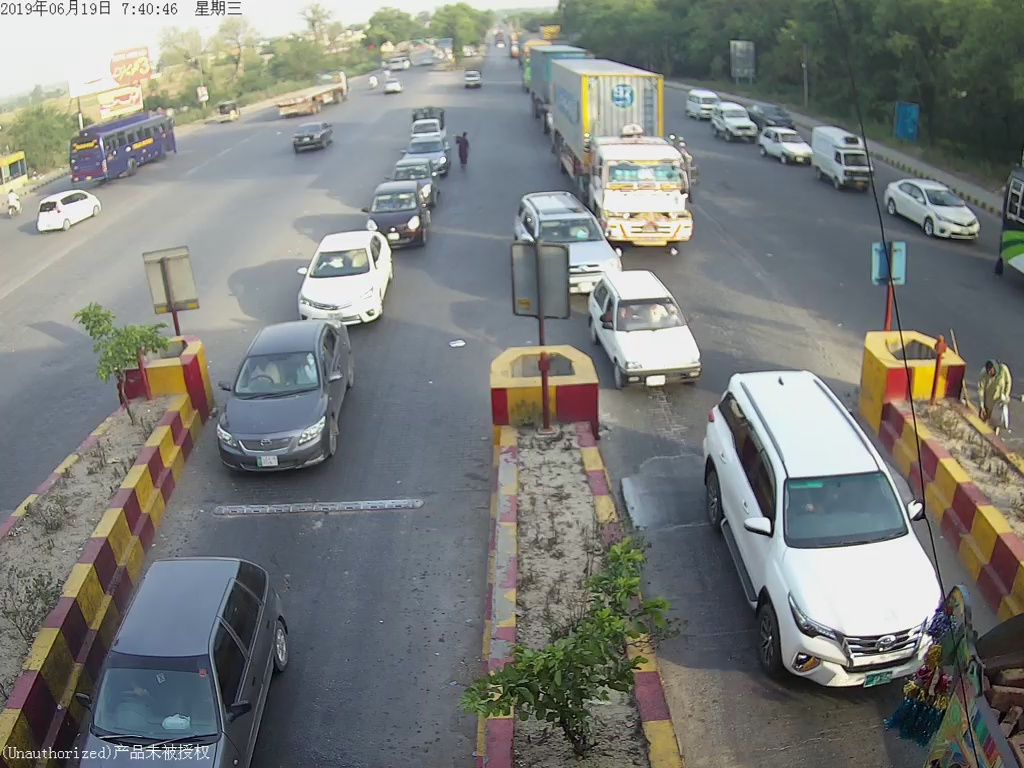Cat-1: (711, 386, 912, 688), (212, 330, 358, 462), (585, 268, 707, 384), (300, 237, 390, 322), (368, 178, 426, 240)
Cat-5: (552, 59, 695, 251)
